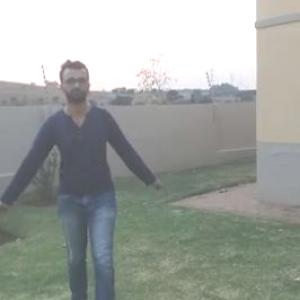land: (1, 44, 179, 298)
